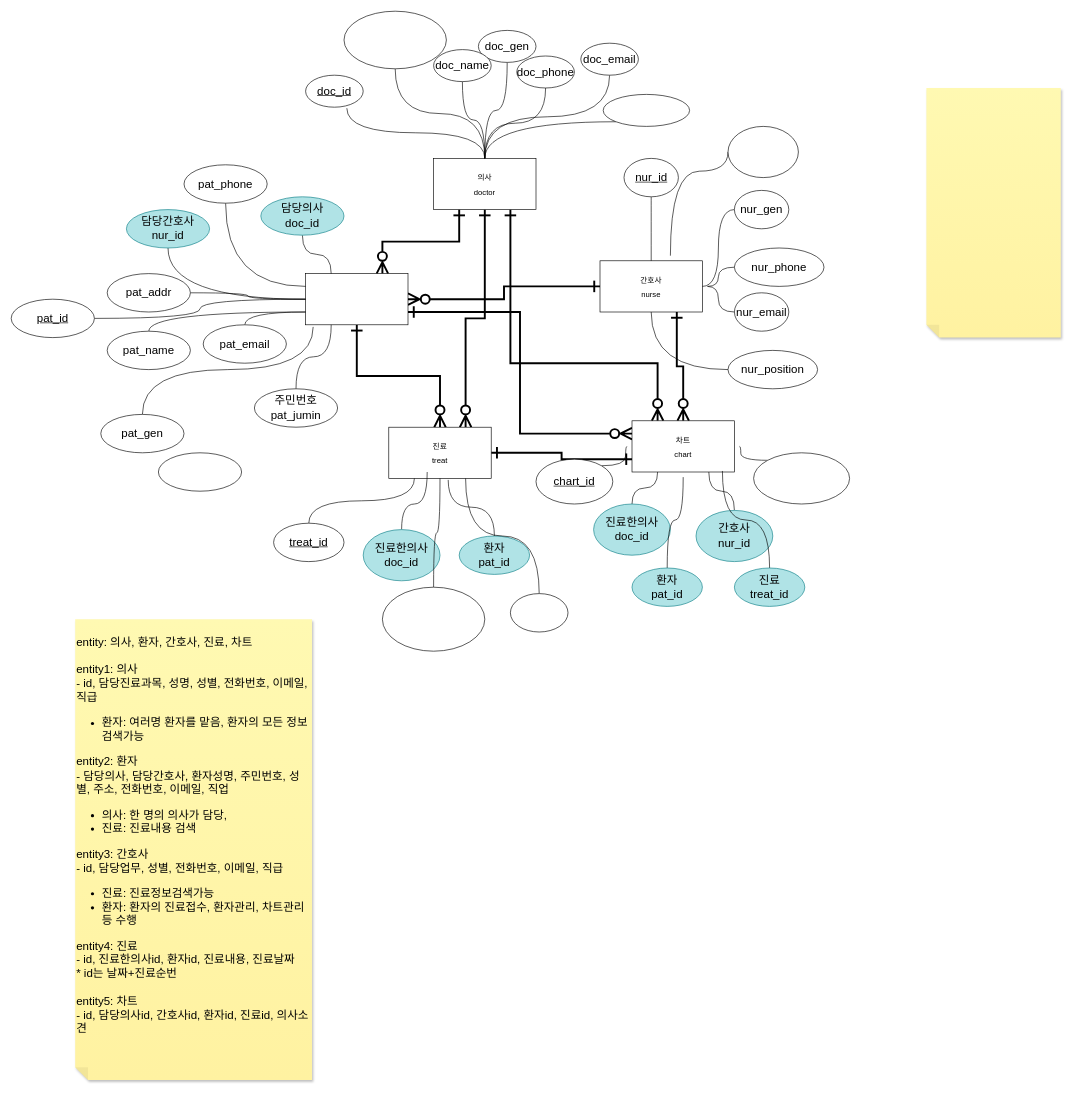
This 1076x1096 diagram has some shape labels left out. The shapes that lost their labels are listed below. From the top down, each one's centre as x and y in pixels, then its label:
(394,40): 담당진료과목 major_treat
(646,110): doc_position
(762,152): 담당업무 major_job
(994,213): 배운것 1. 객체 이름 줄여서 모든 관련 속성 앞에 넣어주기.
(356,299): 환자 patient
(200,471): pat_job
(801,478): 의사의 소견 chart_contents
(433,619): 진료내용 treat_contents
(539,612): treat_date
